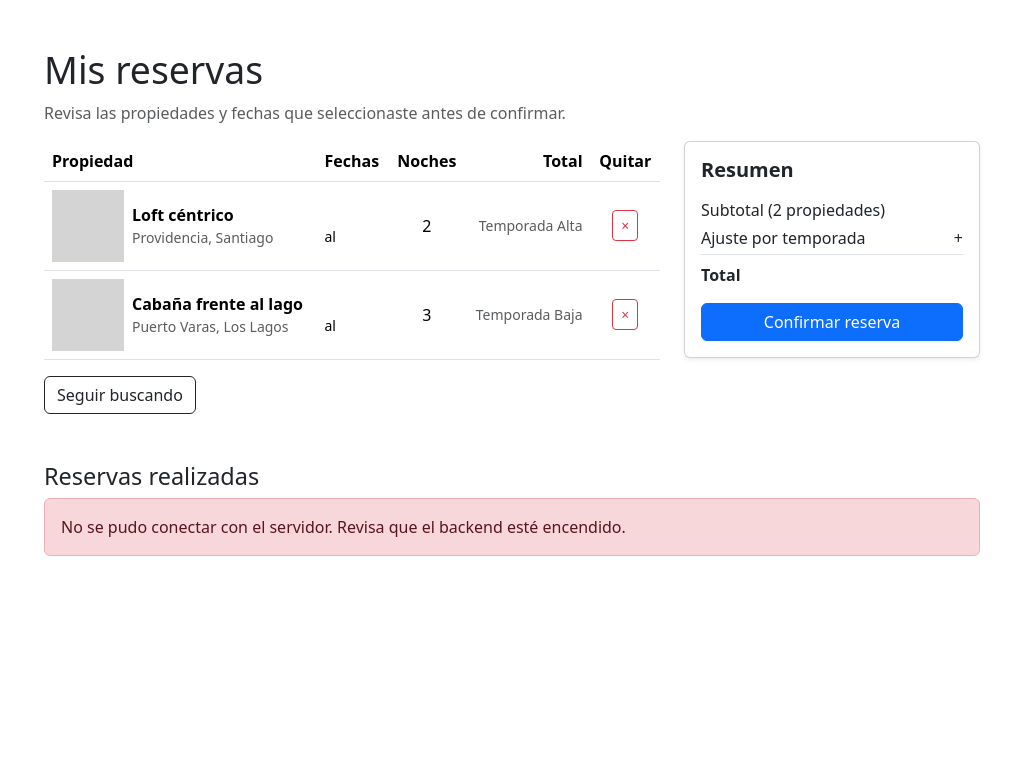
Test case: Página Mis reservas › Si una estadía falla, se informa y solo salen del carrito las que se crearon
The image size is (1024, 768).
Click the button "Confirmar reserva" at (832, 322), box [701,303,963,341]
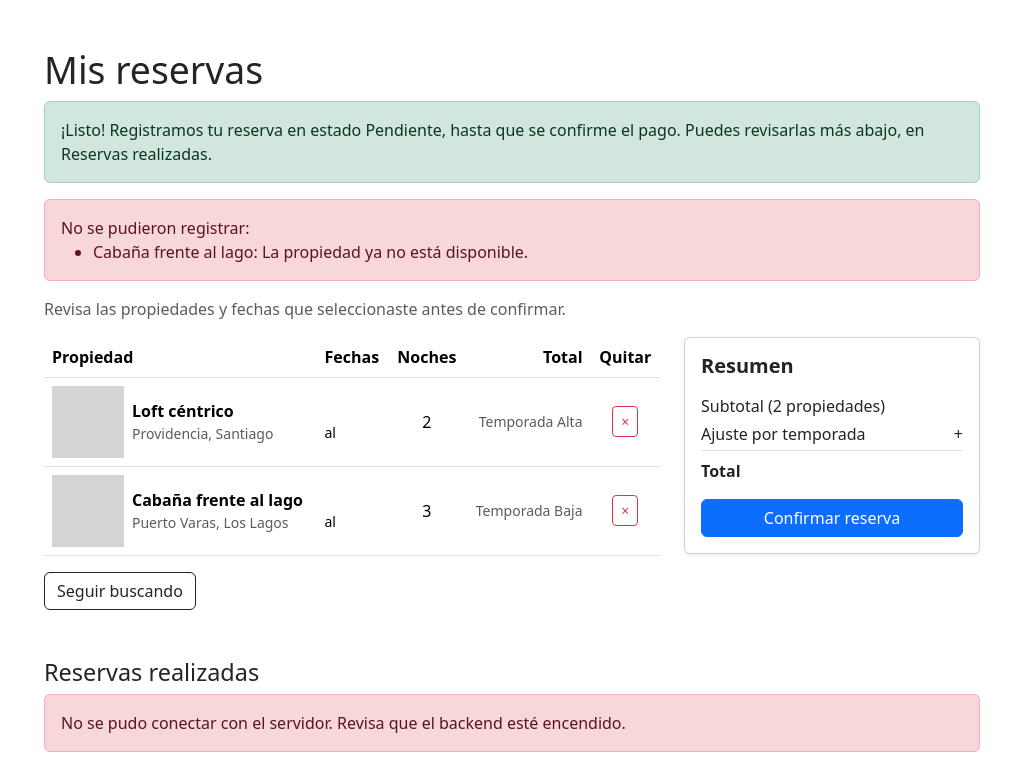
Expected: the list item "Cabaña frente al lago: La propiedad ya no está disponible." is shown, [93,241,528,263]
